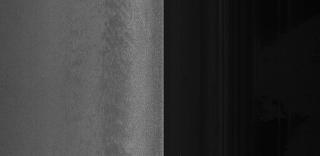silk spot: (96, 23, 144, 113)
